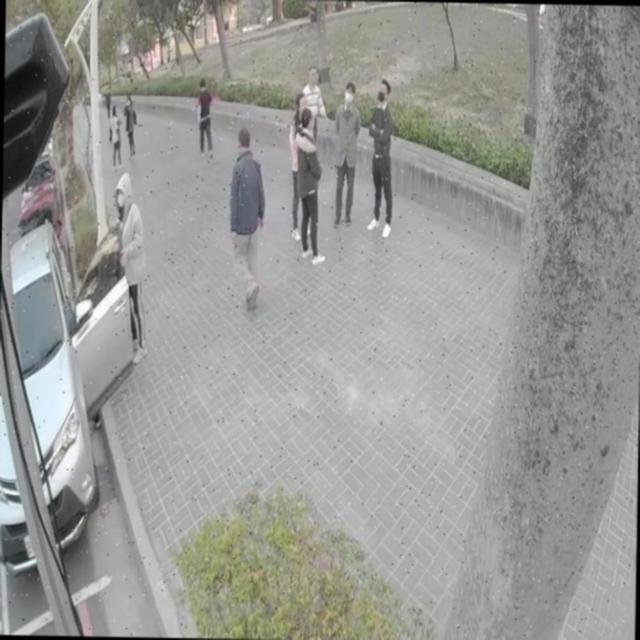person: (226, 124, 268, 311), (112, 170, 148, 359), (299, 110, 329, 258), (369, 79, 395, 238), (334, 80, 361, 222), (286, 92, 306, 236), (296, 60, 330, 132), (193, 71, 216, 165), (110, 110, 122, 168), (125, 98, 136, 156)
